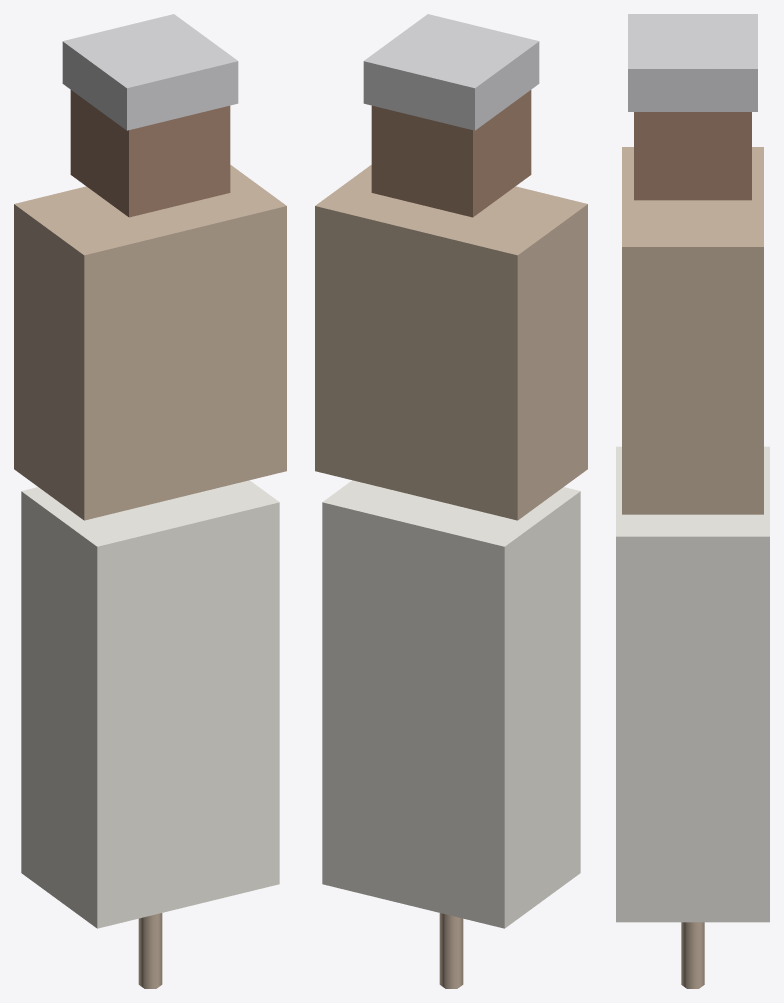
File: velu.glb
3 views of the same model, side by side, from view 1: azimuth 30°, elevation 25°; view 2: azimuth 150°, elevation 25°; view 3: azimuth 270°, elevation 25° (orthographic).
Visible parts, largest first — view 1: Veshti_Node, Torso_Node, GreyHair_Node, Head_Node, WalkingStick_Node; view 2: Veshti_Node, Torso_Node, GreyHair_Node, Head_Node, WalkingStick_Node; view 3: Veshti_Node, Torso_Node, GreyHair_Node, Head_Node, WalkingStick_Node.
Boxes of the visible parts, x1,y1,x2,y2 form: Veshti_Node: (21,480,279,928); Torso_Node: (14,165,286,520); GreyHair_Node: (62,14,238,130); Head_Node: (70,90,230,217); WalkingStick_Node: (138,913,162,988); Veshti_Node: (322,480,580,928); Torso_Node: (315,165,587,520); GreyHair_Node: (363,14,539,130); Head_Node: (371,90,531,217); WalkingStick_Node: (439,913,463,988); Veshti_Node: (616,446,769,922); Torso_Node: (622,147,763,514); GreyHair_Node: (628,14,757,111); Head_Node: (634,112,751,200); WalkingStick_Node: (681,922,704,988).
Bounding box in the file's own units: 0.4 × 1.76 × 0.26.
